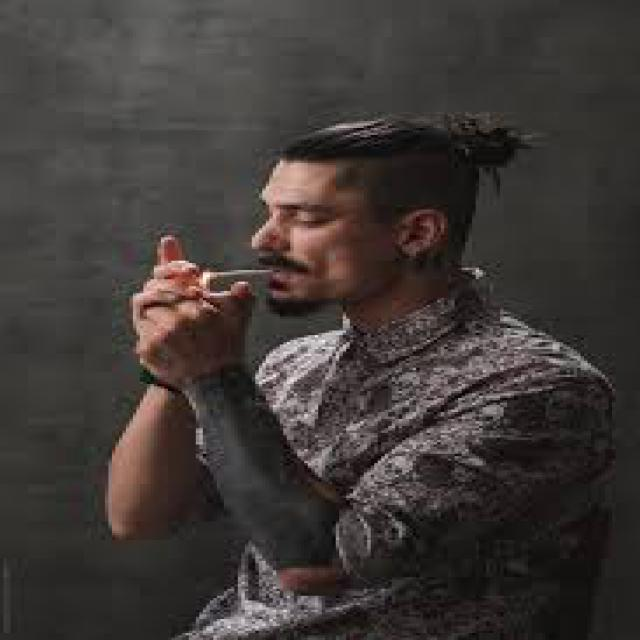fire: (197, 267, 214, 295)
